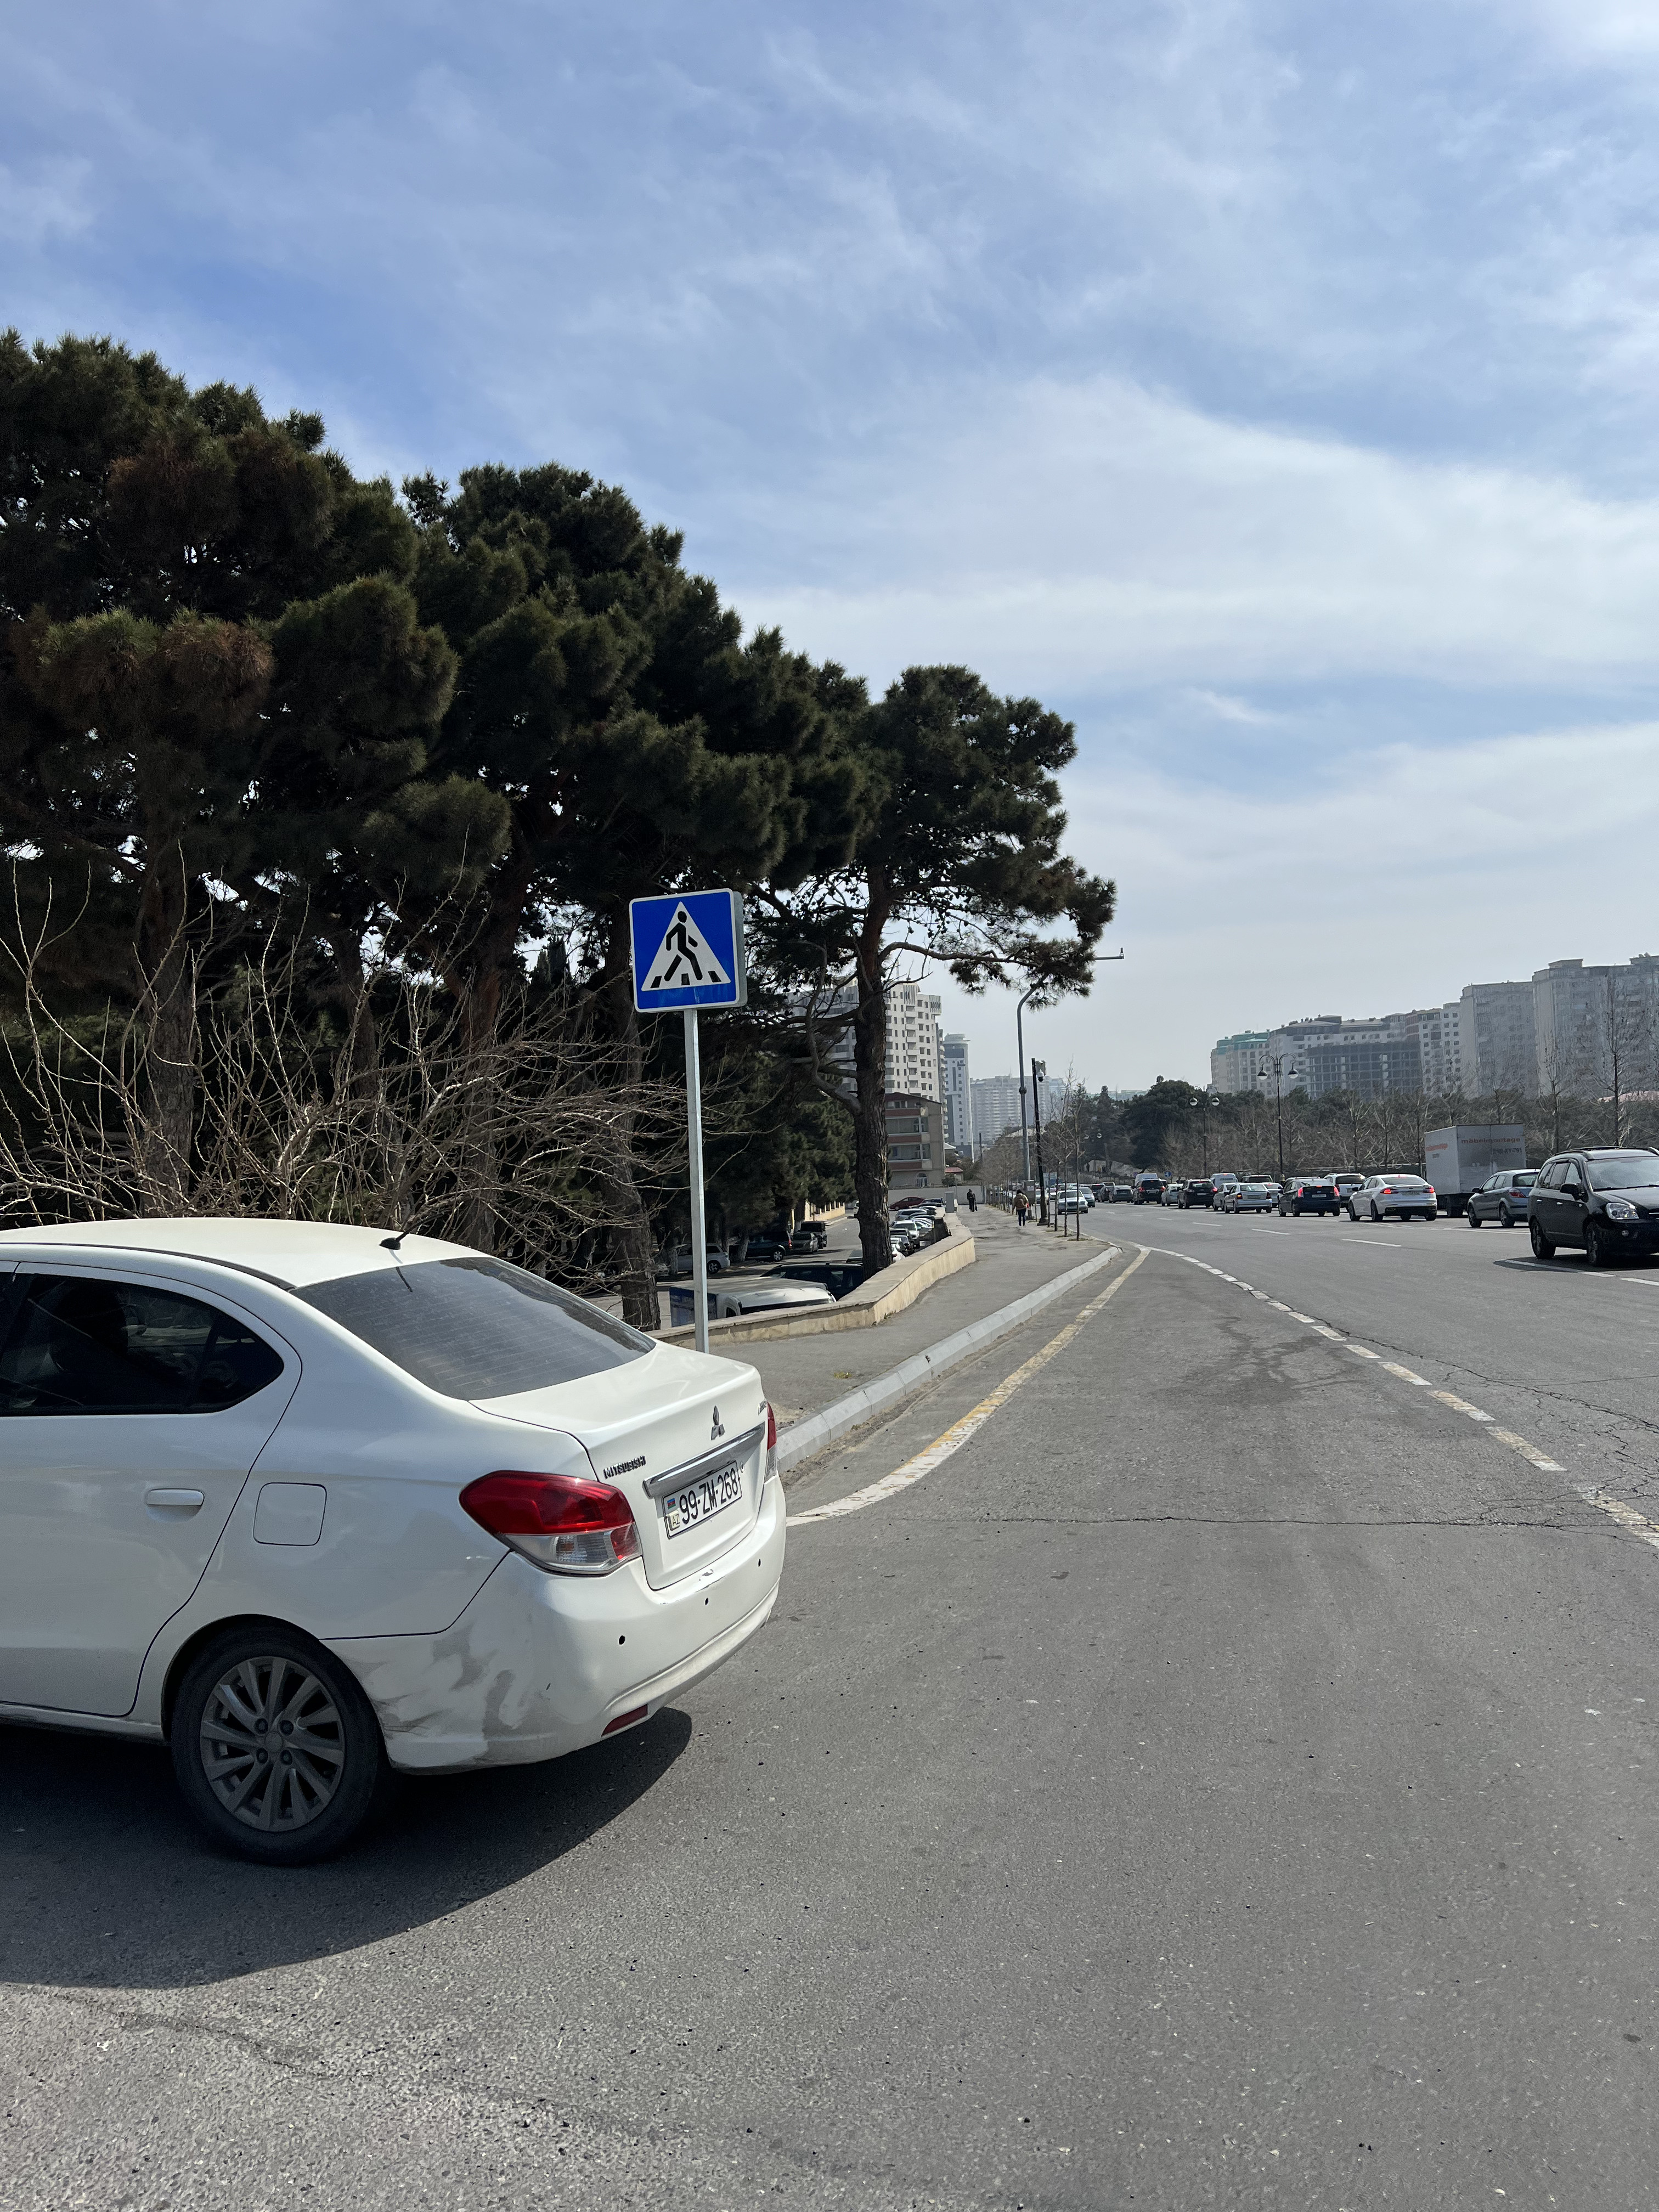Pedestrian Crossing: (627, 892, 739, 1012)
